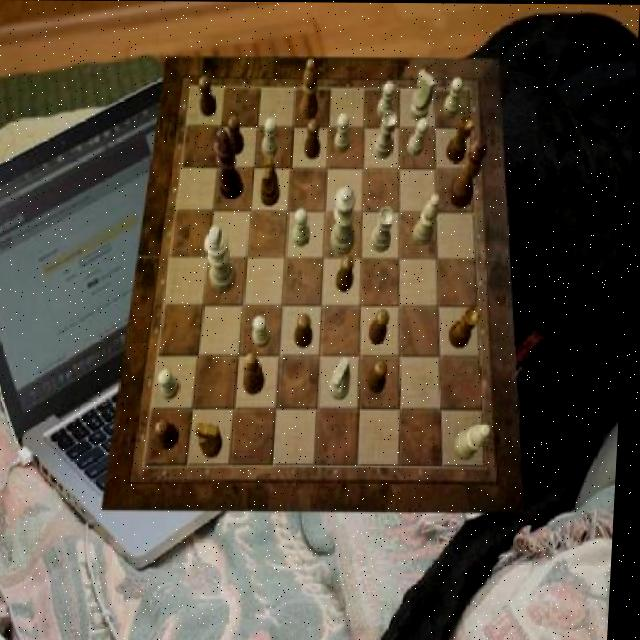bishop: (301, 59, 321, 120), (247, 352, 271, 395)
black-bishop: (213, 129, 249, 200)
black-king: (263, 154, 285, 206), (199, 421, 228, 457)
black-knight: (198, 77, 219, 117), (158, 418, 184, 450), (227, 115, 247, 155), (372, 308, 394, 344), (339, 254, 358, 292), (306, 120, 324, 160), (372, 359, 393, 393), (298, 313, 317, 347)
black-pawn: (450, 135, 490, 209)
black-queen: (447, 115, 476, 163), (452, 306, 485, 348)
black-rook: (416, 193, 443, 244), (460, 422, 497, 459)
white-bishop: (205, 226, 242, 292)
white-king: (410, 69, 437, 121), (332, 356, 356, 398)
white-knight: (409, 118, 432, 156), (445, 77, 464, 117), (162, 369, 186, 400), (296, 208, 315, 246), (378, 81, 397, 119), (263, 119, 281, 159), (255, 315, 276, 348), (335, 113, 352, 153)
white-pawn: (333, 187, 360, 254)
white-queen: (375, 111, 399, 159), (373, 207, 398, 253)
